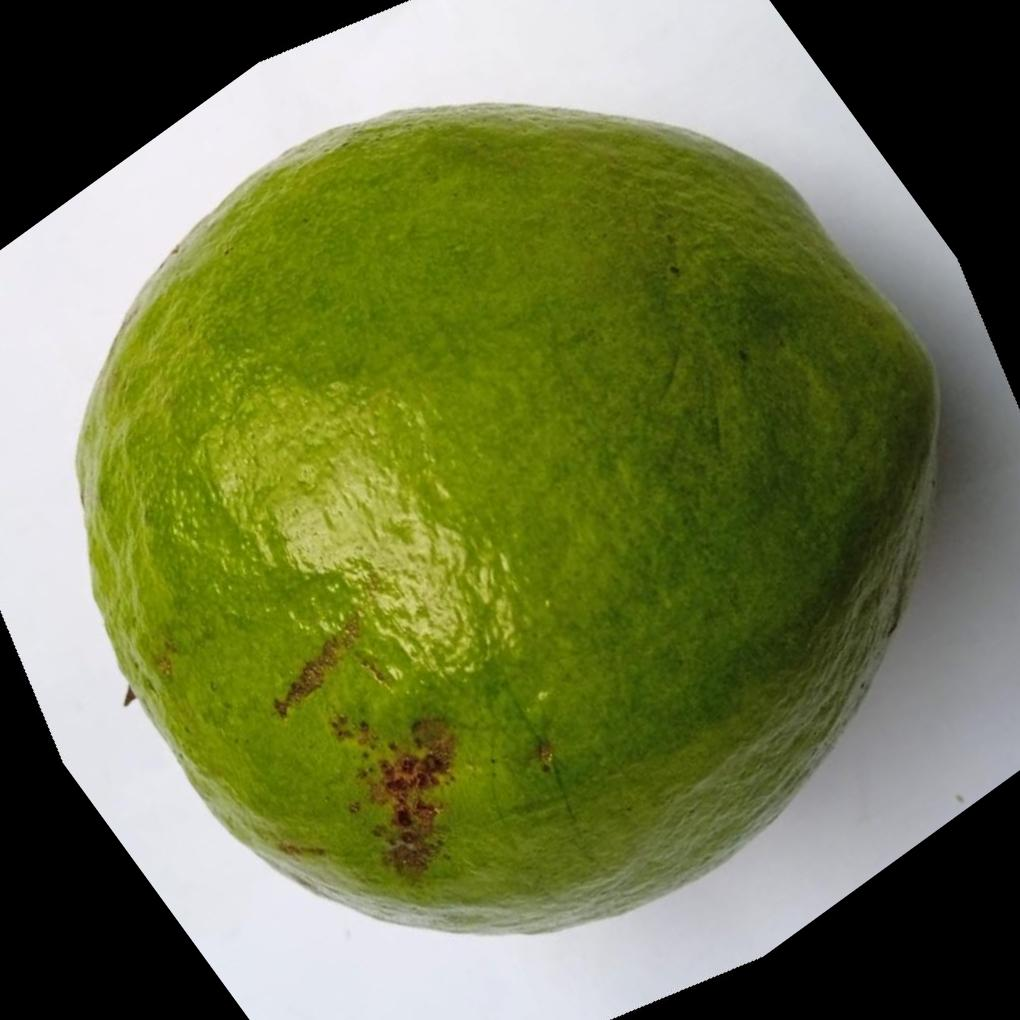FreshGuava: (75, 103, 943, 941)
